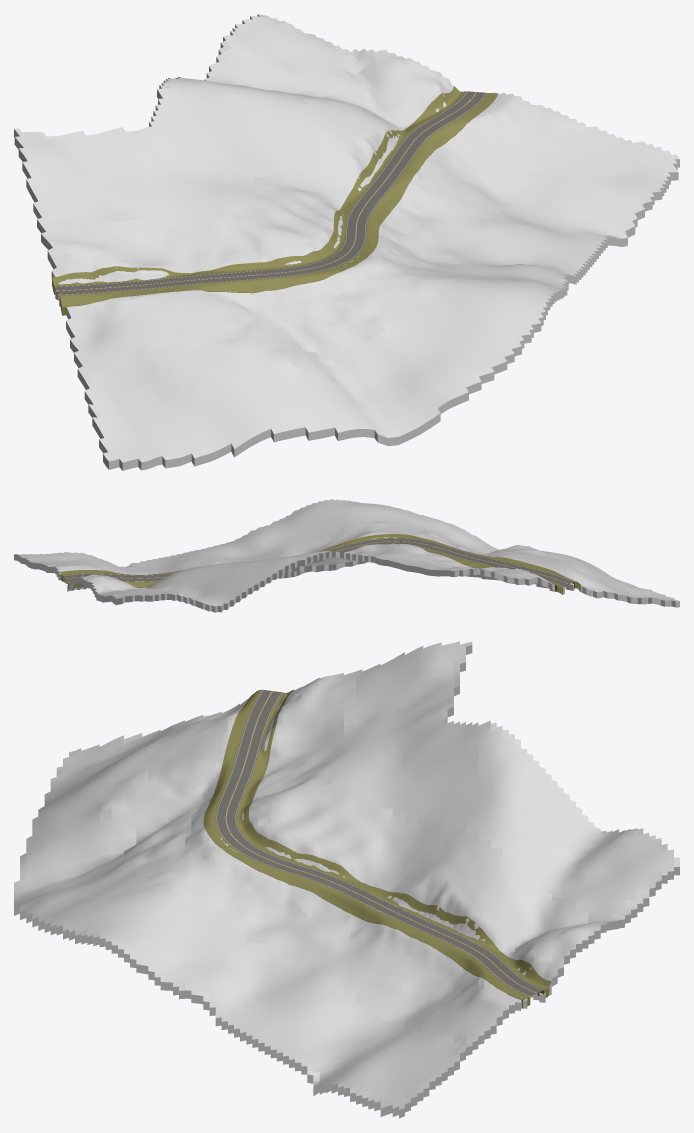
File: conz_173.glb
3 views of the same model, one above another, from view 1: azimuth 30°, elevation 25°; view 2: azimuth 150°, elevation 25°; view 3: azimuth 270°, elevation 25° (orthographic). The views are drawn at different scales.
Parts seen in each view (by area): view 1: terrain173, road173, verge173L, verge173R; view 2: terrain173, road173, verge173L, verge173R, paint_yellow173; view 3: terrain173, road173, verge173L, verge173R, paint_white173.
Boxes of the visible parts, x1=… form: terrain173: x1=14, y1=14, x2=679, y2=470; road173: x1=55, y1=91, x2=485, y2=295; verge173L: x1=59, y1=93, x2=498, y2=315; verge173R: x1=52, y1=86, x2=465, y2=294; terrain173: x1=14, y1=499, x2=679, y2=612; road173: x1=63, y1=538, x2=573, y2=586; verge173L: x1=60, y1=534, x2=580, y2=590; verge173R: x1=68, y1=546, x2=563, y2=593; paint_yellow173: x1=66, y1=541, x2=567, y2=583; terrain173: x1=14, y1=641, x2=679, y2=1118; road173: x1=216, y1=690, x2=543, y2=996; verge173L: x1=203, y1=689, x2=530, y2=1008; verge173R: x1=236, y1=689, x2=551, y2=997; paint_white173: x1=216, y1=690, x2=542, y2=996.
Bounding box in the file's own units: 280 × 69.2 × 218.
